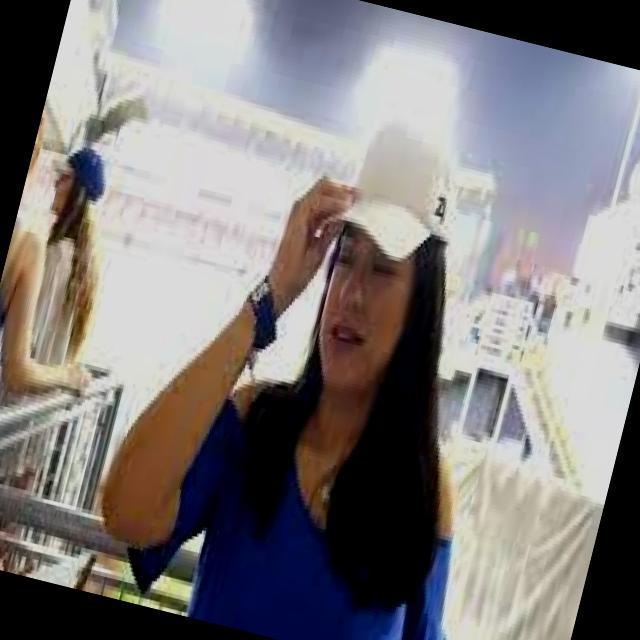cap: (307, 106, 482, 290)
